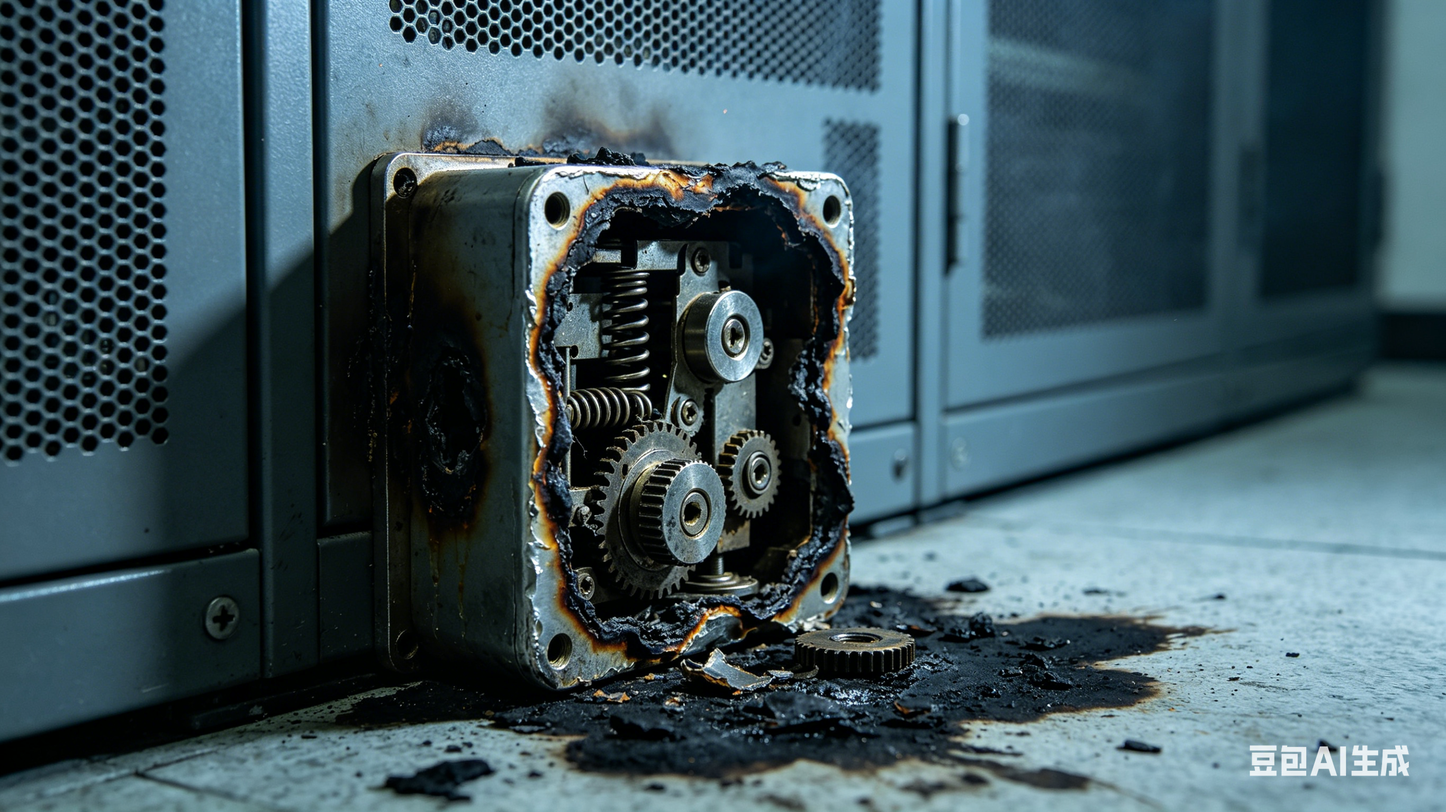BadLock: (509, 171, 856, 659)
